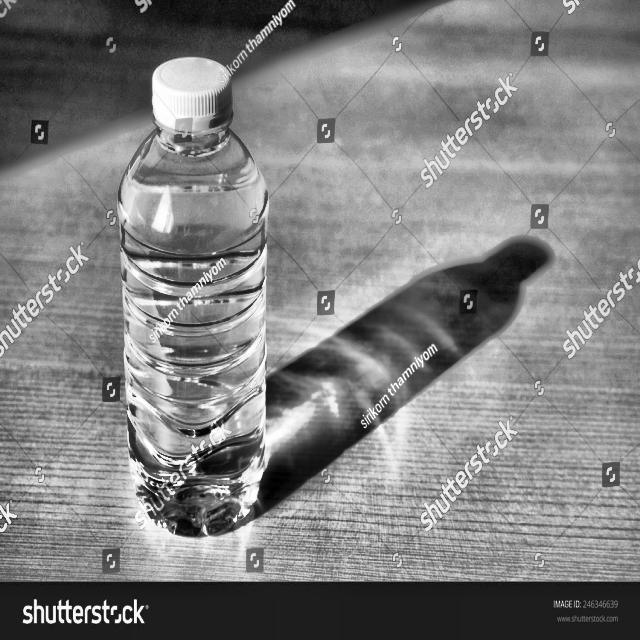waterbottle: (111, 48, 279, 549)
